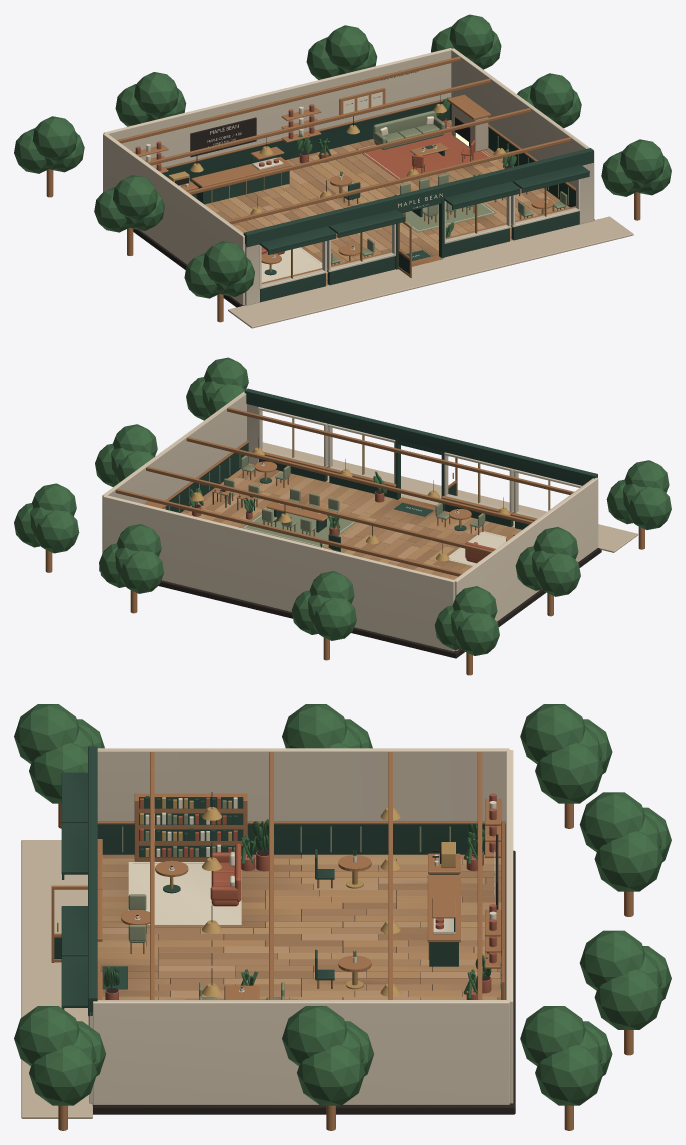
File: cafe-ambient.glb
3 views of the same model, one above another, from view 1: azimuth 30°, elevation 25°; view 2: azimuth 150°, elevation 25°; view 3: azimuth 270°, elevation 25° (orthographic). The views are drawn at different scales.
Visible parts, largest first — view 1: Back plaster wall, Stone entrance path, Left plaster wall, Maple Bean marquee, Right plaster wall, Back green wainscot, Woven rug, Ceiling beam, Ceiling beam.002, Ceiling beam.003, Ceiling beam.001, Maple Hollow tree canopy.003 (+34 smaller); view 2: Back plaster wall, Left plaster wall, Maple Bean marquee, Right plaster wall, Stone entrance path, Expanded foundation, Ceiling beam, Ceiling beam.001, Ceiling beam.003, Ceiling beam.002, Maple Hollow tree canopy.002, Maple Hollow tree canopy.006 (+27 smaller); view 3: Right plaster wall, Left plaster wall, Stone entrance path, Green wainscot, Expanded foundation, Woven rug.002, Maple Hollow tree canopy.009, Maple Hollow tree canopy.013, Maple Hollow tree canopy.021, Maple Hollow tree canopy.017, Maple Hollow tree canopy.025, Maple Hollow tree canopy.029 (+26 smaller).
Boxes of the visible parts, x1,y1,x2,y2 form: Back plaster wall: [103, 48, 451, 168]; Stone entrance path: [228, 216, 633, 328]; Left plaster wall: [103, 133, 244, 305]; Maple Bean marquee: [243, 148, 593, 247]; Right plaster wall: [451, 48, 594, 219]; Back green wainscot: [162, 101, 450, 182]; Woven rug: [356, 126, 490, 179]; Ceiling beam: [227, 137, 571, 224]; Ceiling beam.002: [147, 78, 490, 165]; Ceiling beam.003: [117, 56, 460, 143]; Ceiling beam.001: [187, 108, 530, 194]; Maple Hollow tree canopy.003: [203, 241, 247, 286]; Back plaster wall: [103, 495, 454, 651]; Left plaster wall: [454, 477, 598, 650]; Maple Bean marquee: [244, 388, 597, 485]; Right plaster wall: [102, 391, 246, 553]; Stone entrance path: [262, 442, 638, 552]; Expanded foundation: [99, 548, 601, 658]; Ceiling beam: [227, 407, 573, 494]; Ceiling beam.001: [186, 437, 533, 524]; Ceiling beam.003: [115, 489, 462, 576]; Ceiling beam.002: [146, 466, 492, 554]; Maple Hollow tree canopy.002: [627, 487, 671, 529]; Maple Hollow tree canopy.006: [536, 553, 580, 596]; Right plaster wall: [93, 1000, 509, 1104]; Left plaster wall: [97, 748, 509, 820]; Stone entrance path: [21, 840, 92, 1118]; Green wainscot: [97, 824, 484, 854]; Expanded foundation: [92, 850, 515, 1114]; Woven rug.002: [128, 862, 241, 924]; Maple Hollow tree canopy.009: [535, 743, 603, 803]; Maple Hollow tree canopy.013: [29, 1045, 97, 1105]; Maple Hollow tree canopy.021: [535, 1045, 603, 1105]; Maple Hollow tree canopy.017: [297, 1045, 365, 1105]; Maple Hollow tree canopy.025: [594, 831, 662, 891]; Maple Hollow tree canopy.029: [594, 969, 662, 1029].
Size of what is drawn, in the model's own units: 27.49 by 4.82 by 22.1.
